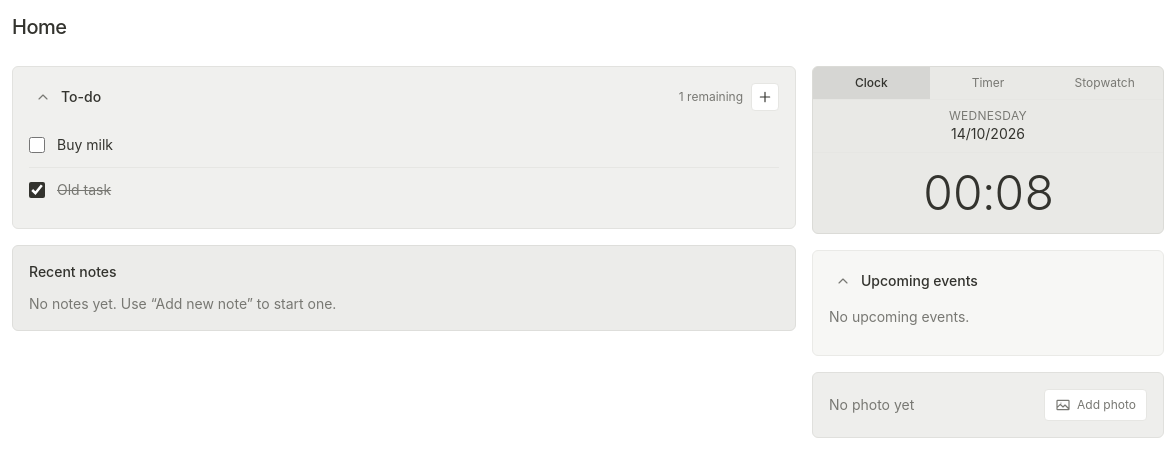
To-do widget on Home › adds a to-do with Enter, with an optional due date, then closes the form
expect the text "Buy milk" is shown: met, box [57,136,113,153]
Step 1. Click the button named "Add to-do" → (765, 97), box [751,83,779,111]
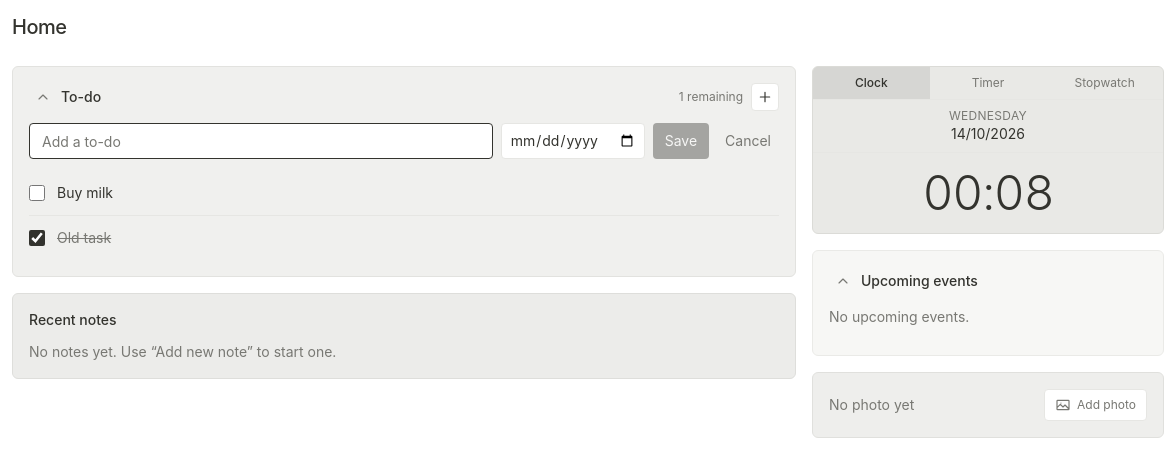
Step 2. Type "  Hand in essay " into the field named "New to-do" → (261, 141), box [29,123,493,159]
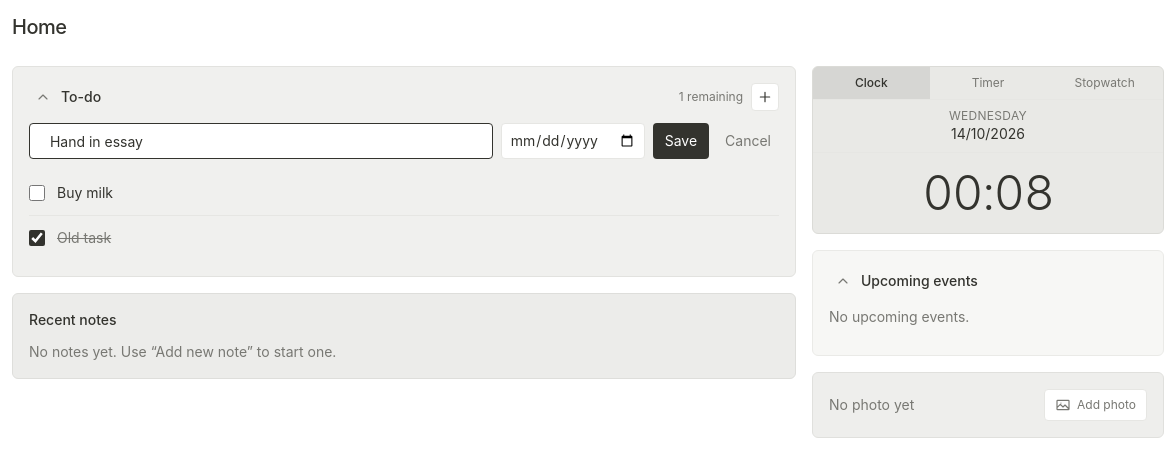
Step 3. Type "2099-01-02" into the date field named "Due date (optional)" → (573, 141), box [501,123,645,159]
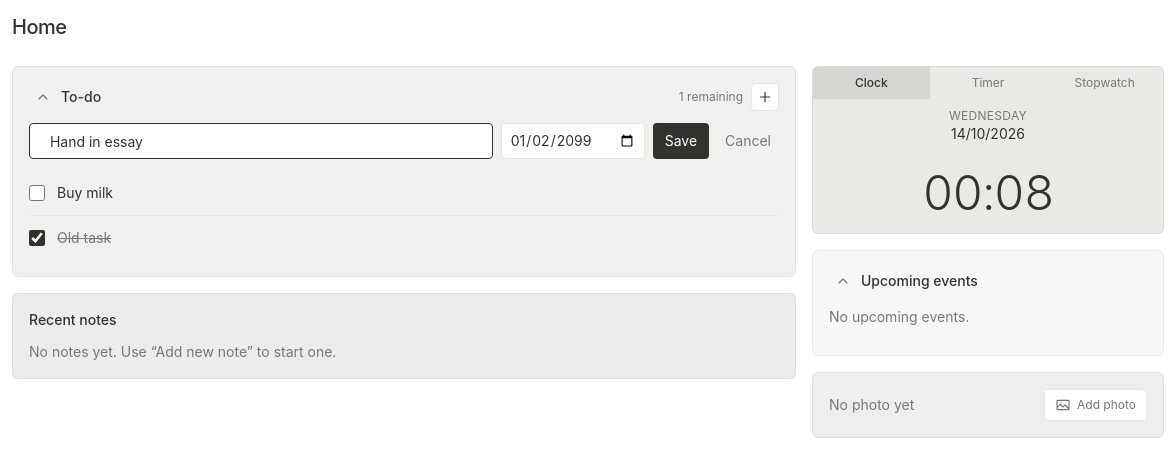
Step 4. Press Enter in the field named "New to-do", box [29,123,493,159]
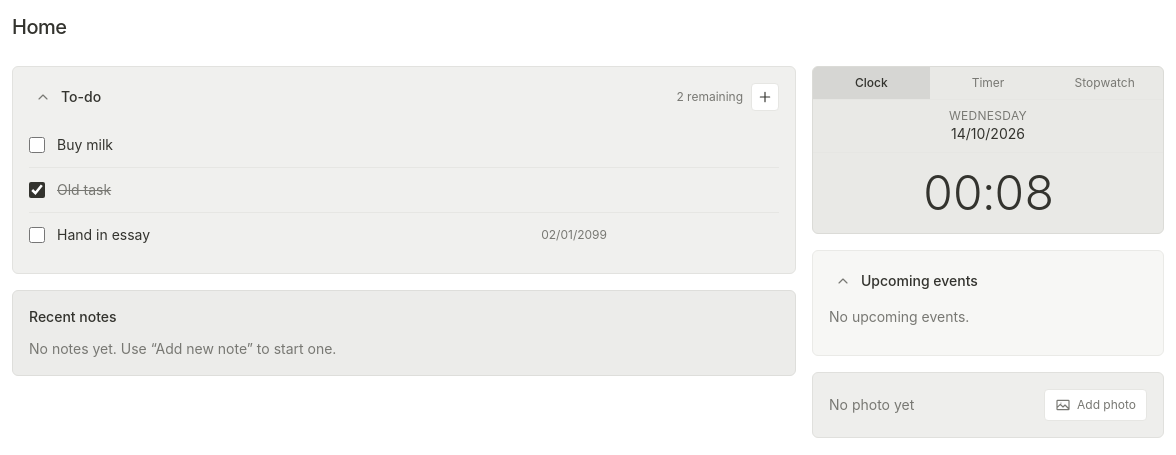
expect the text "Hand in essay" is shown: met, box [57,226,150,243]
expect the text with test id "todo-due" reads "02/01/2099": met, box [541,227,607,242]
